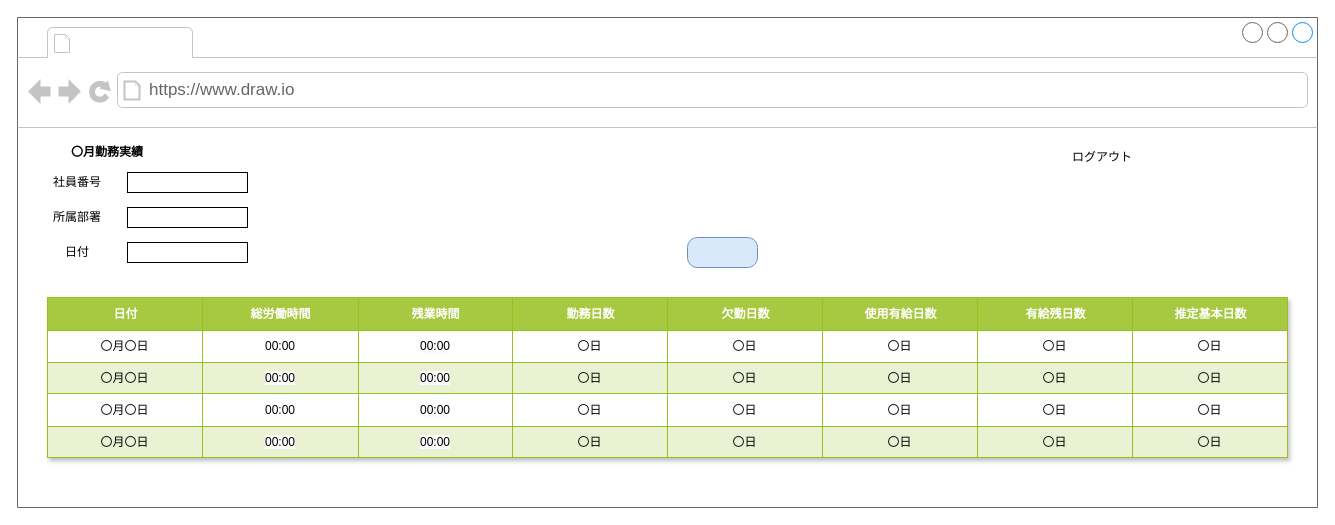
Image size: 1335x525. Some labels were removed from this diagram. Each missing label, with the centre of its shape:
"HOMEへ" belongs at (722,252).
"Logm" belongs at (132,42).
